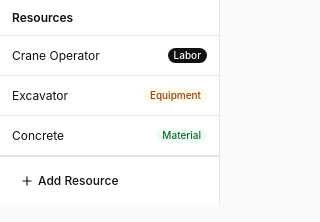
Scenario: ResourceSidebar › enables inline editing on double-click
Double-click the text "Crane Operator" at point(56, 55), box [12,48,100,62]
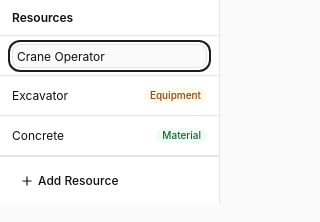
Now the field showing "Crane Operator" is shown, box [12,44,207,68]
